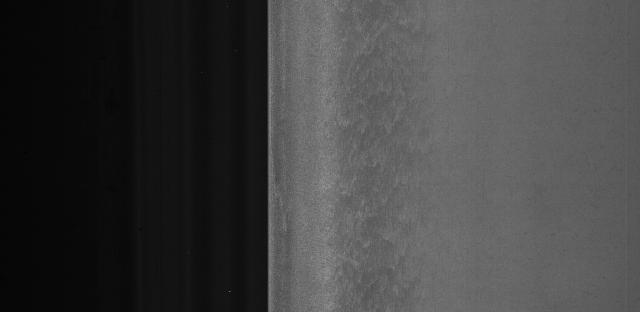silk_spot: (332, 15, 446, 292)
